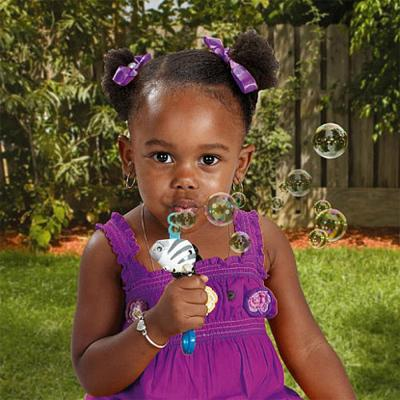person: (68, 35, 361, 400)
